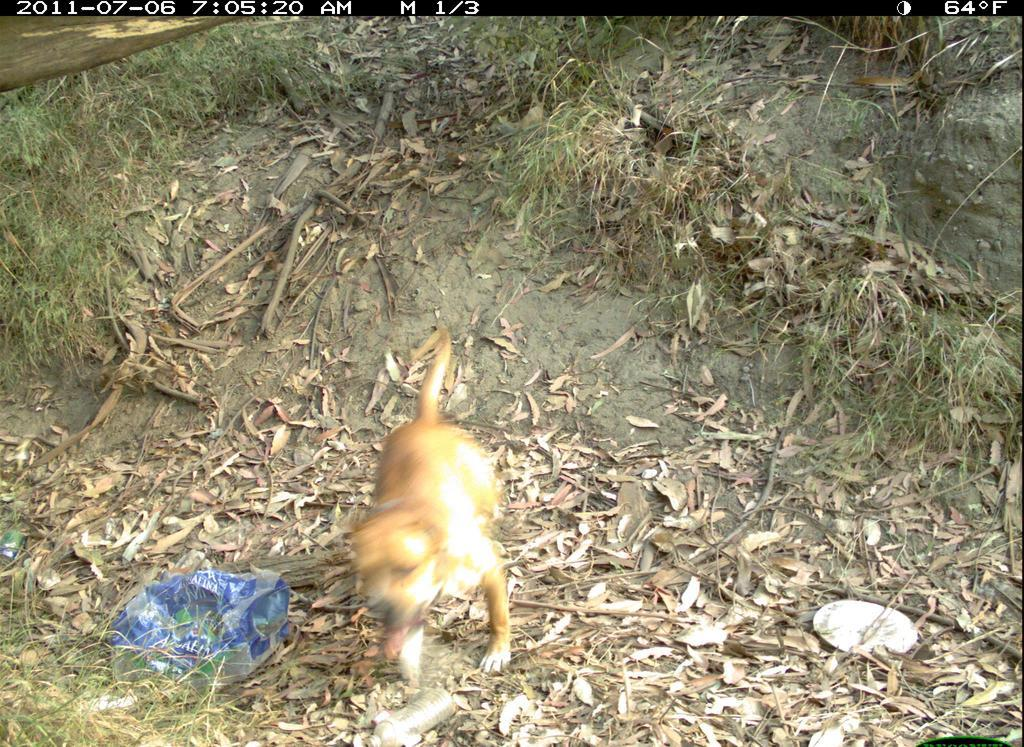dog: (332, 318, 545, 688)
